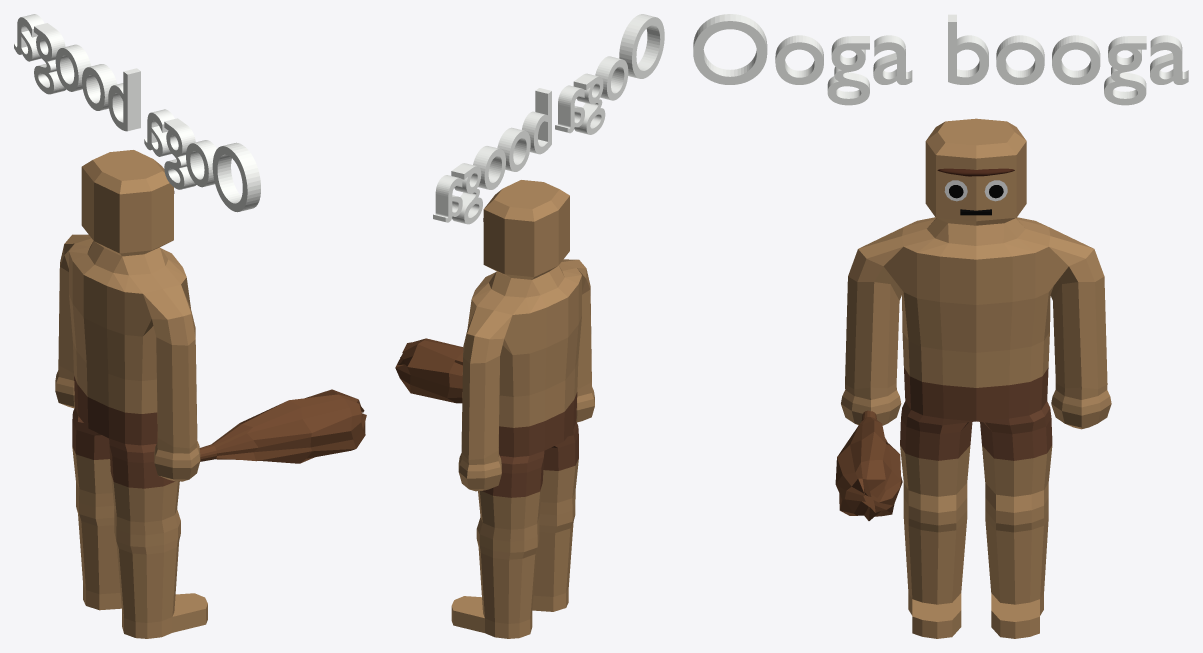
File: abomination.fbx
The picture shows the model from 3 angles, left to right: view 1: azimuth 30°, elevation 25°; view 2: azimuth 150°, elevation 25°; view 3: azimuth 270°, elevation 25°; orthographic projection. The views are drawn at different scales.
Parts seen in each view (by area): view 1: Cube.001, Text, Circle; view 2: Cube.001, Text, Circle; view 3: Cube.001, Text, Circle.
Boxes of the visible parts, bbox=[...] form: Cube.001: bbox=[55, 150, 207, 638]; Text: bbox=[14, 14, 260, 212]; Circle: bbox=[200, 389, 366, 463]; Cube.001: bbox=[451, 180, 594, 638]; Text: bbox=[433, 14, 664, 224]; Circle: bbox=[395, 338, 463, 403]; Cube.001: bbox=[841, 118, 1111, 638]; Text: bbox=[693, 14, 1188, 105]; Circle: bbox=[835, 410, 902, 520].
Size of the model in its own units: 280 by 642 by 490.
